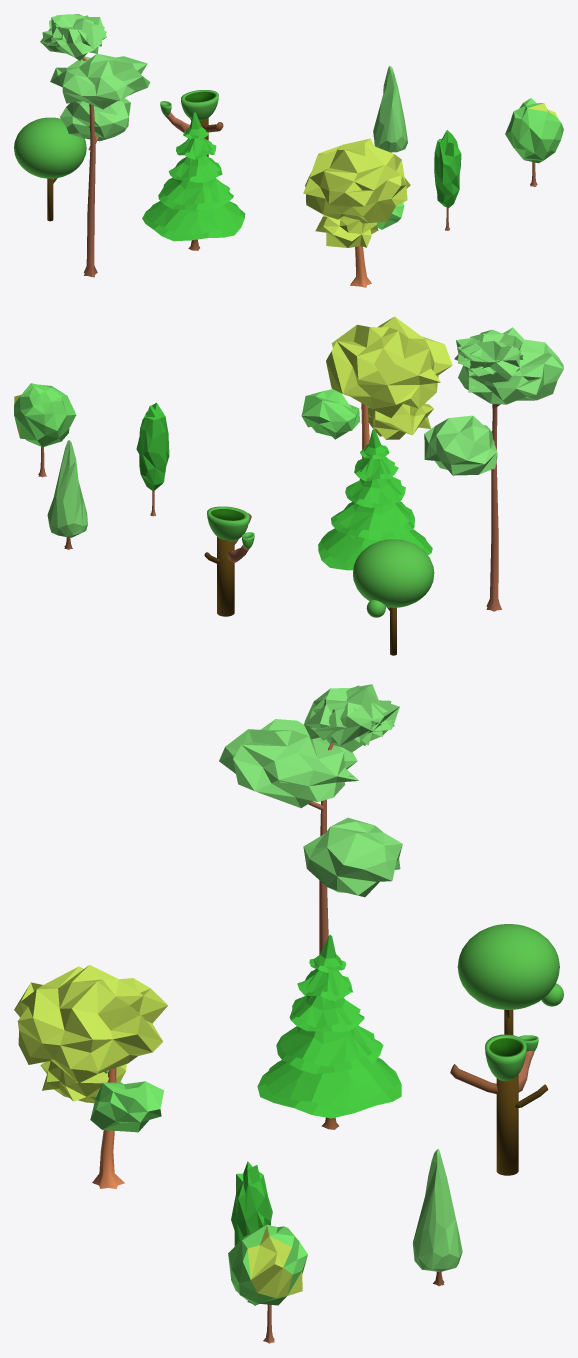
Rendered from tree_group.glb.
3 renders of one model, top to bottom at view 1: azimuth 30°, elevation 25°; view 2: azimuth 150°, elevation 25°; view 3: azimuth 270°, elevation 25°, orthographic. The views are drawn at different scales.
Parts seen in each view (by area): view 1: Icosphere.010, Icosphere.015, Cone.006, Circle.001, Icosphere.000, Cone.009, Icosphere.011, Circle.004; view 2: Icosphere.015, Icosphere.010, Cone.006, Circle.001, Icosphere.000, Circle.004, Cone.009, Icosphere.011; view 3: Icosphere.010, Icosphere.015, Cone.006, Circle.001, Icosphere.000, Circle.004, Cone.009, Icosphere.011.
Part boxes in pixels (x1,y1,x2,y2): Icosphere.010: (40,14,150,277); Icosphere.015: (303,138,410,287); Cone.006: (142,112,245,250); Circle.001: (14,117,86,221); Icosphere.000: (505,98,563,186); Cone.009: (373,66,407,152); Icosphere.011: (434,130,461,230); Circle.004: (160,90,223,156); Icosphere.015: (301,316,452,479); Icosphere.010: (424,327,563,611); Cone.006: (318,429,432,570); Circle.001: (353,539,434,655); Icosphere.000: (14,383,76,477); Circle.004: (204,506,254,616); Cone.009: (47,440,87,549); Icosphere.011: (136,402,169,516); Icosphere.010: (219,684,402,954); Icosphere.015: (14,965,167,1188); Cone.006: (257,934,401,1129); Circle.001: (457,924,563,1034); Icosphere.000: (228,1224,307,1343); Circle.004: (450,1034,548,1175); Cone.009: (412,1149,462,1286); Icosphere.011: (231,1161,272,1303).
Size of the model in its own units: 21.48 by 11.25 by 14.82.
